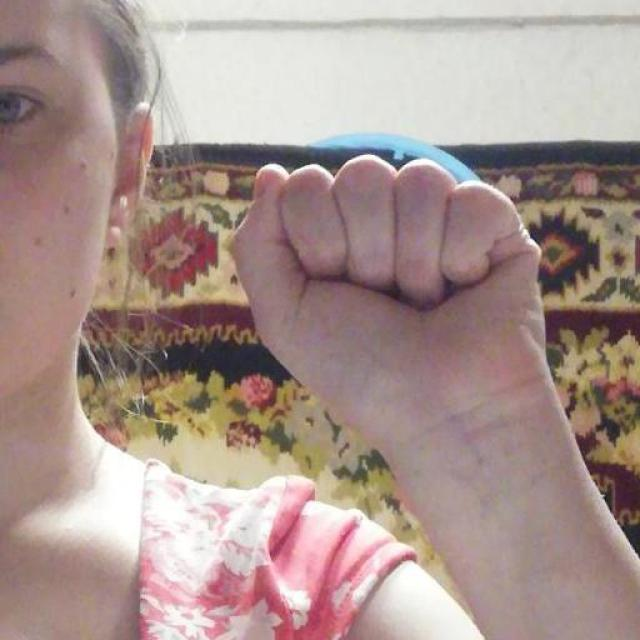hand: (227, 152, 638, 638), (227, 151, 554, 450)
